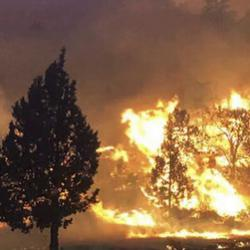fire: (198, 176, 246, 217), (125, 110, 163, 152), (110, 207, 155, 231)
